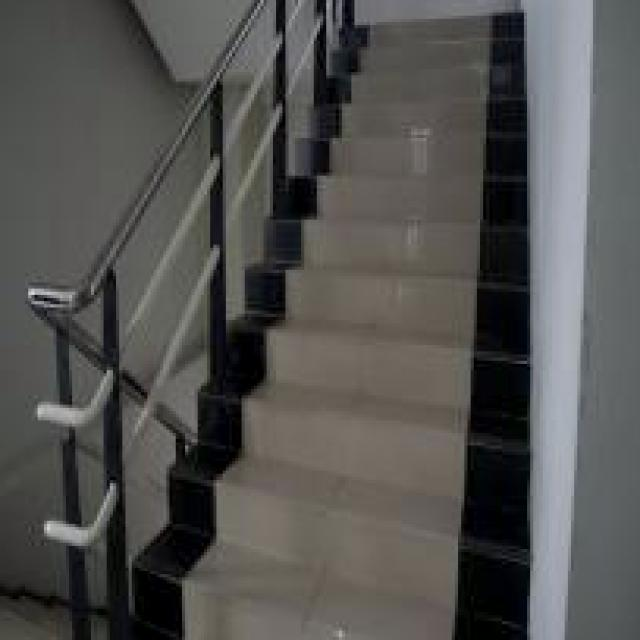upstair: (284, 167, 535, 616)
